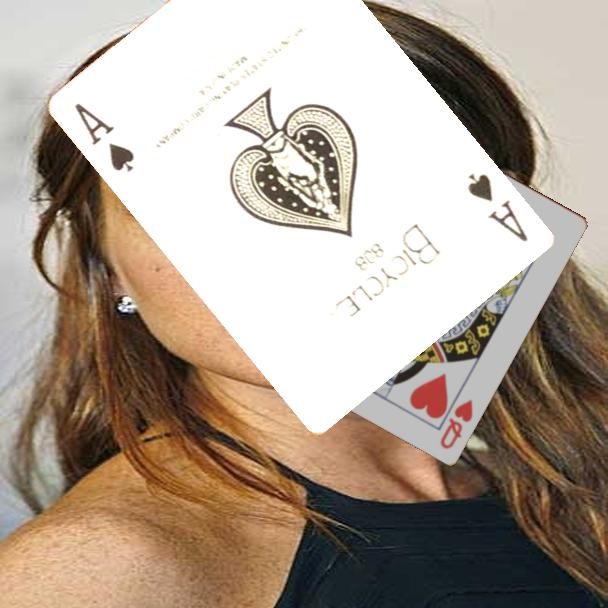h12: (436, 395, 476, 452)
s01: (464, 170, 532, 246), (72, 99, 138, 175)
